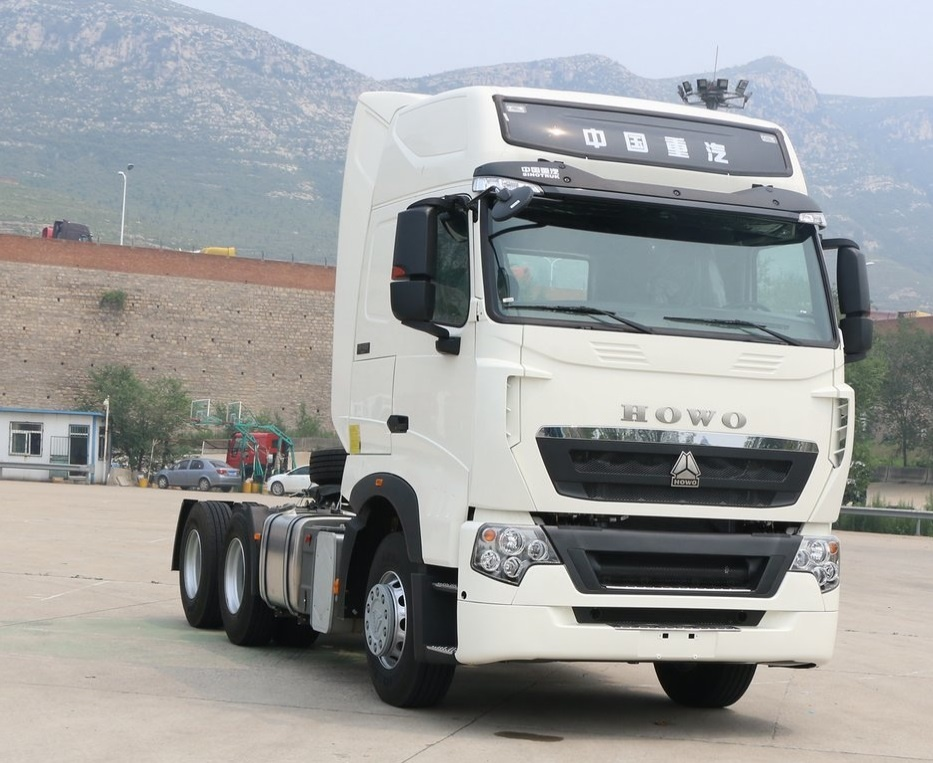heavy truck: (161, 91, 867, 715)
